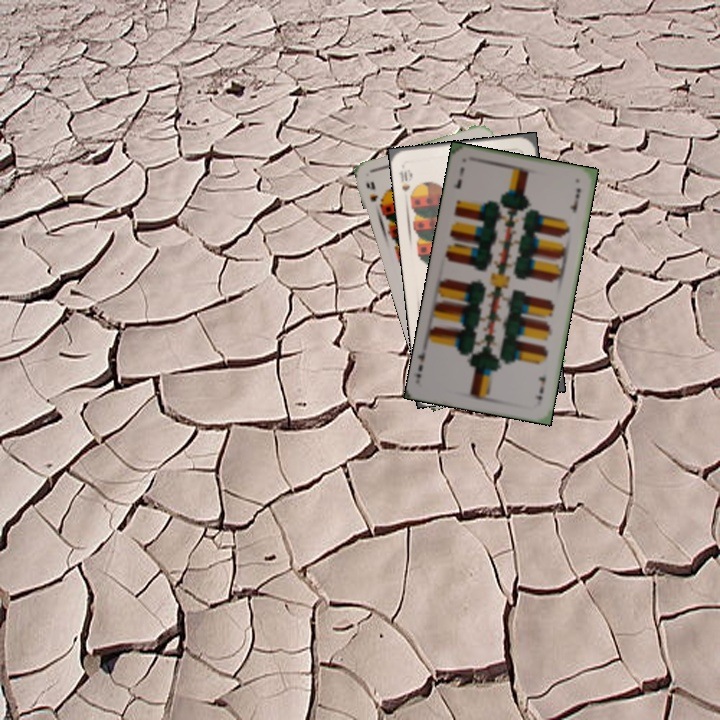E7: (531, 369, 548, 403), (449, 163, 466, 191)
S10: (395, 165, 417, 202)
S9: (362, 177, 387, 213)
